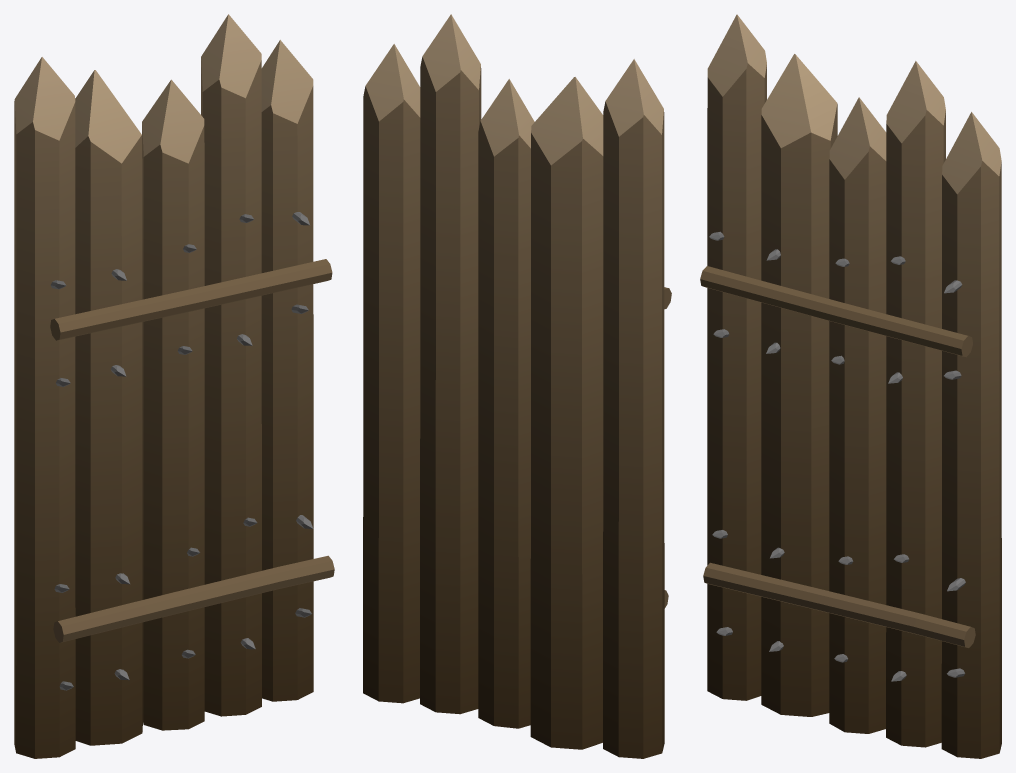
File: PallisadeWall_Planks_Right_CubeFBXASC046014.fbx
The picture shows the model from 3 angles, left to right: view 1: azimuth 30°, elevation 25°; view 2: azimuth 150°, elevation 25°; view 3: azimuth 330°, elevation 25°; orthographic projection. The views are drawn at different scales.
Visible parts, largest first — view 1: PallisadeWall_Planks_Right_Cube.014; view 2: PallisadeWall_Planks_Right_Cube.014; view 3: PallisadeWall_Planks_Right_Cube.014.
Boxes of the visible parts, x1,y1,x2,y2 form: PallisadeWall_Planks_Right_Cube.014: (14,14,334,758); PallisadeWall_Planks_Right_Cube.014: (363,14,671,758); PallisadeWall_Planks_Right_Cube.014: (700,14,1001,758).
Size of the model in its own units: 65.44 by 146 by 19.41.
